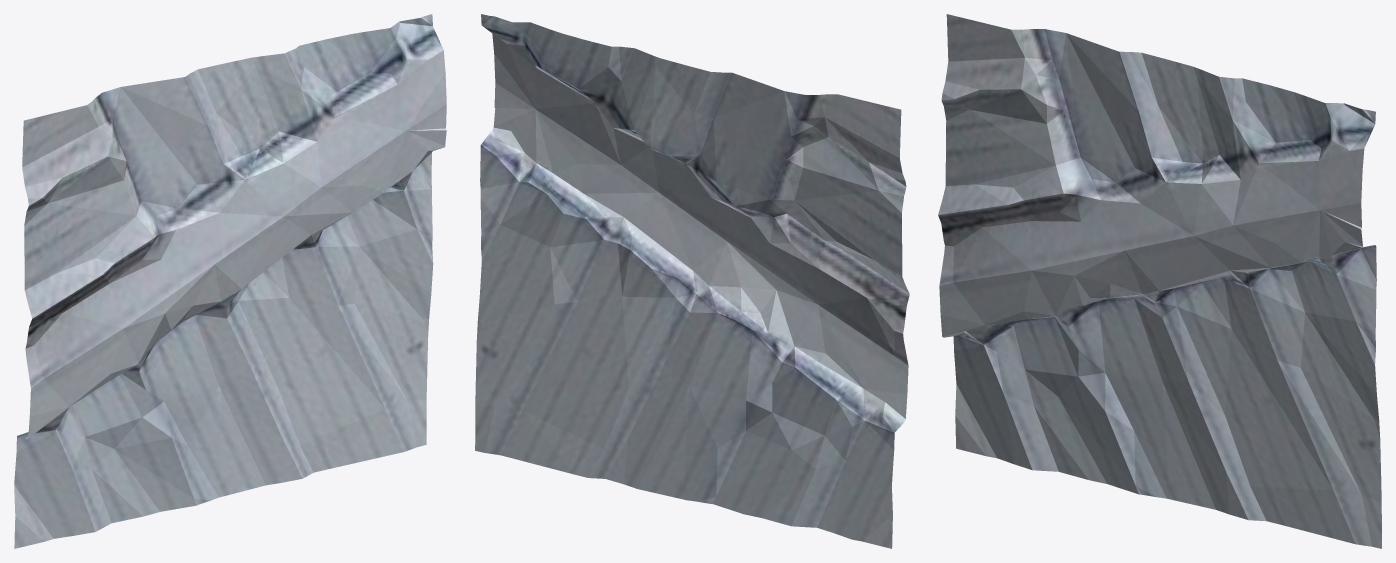
File: Tile_+001_+007_L23_002101.obj
3 views of the same model, side by side, from view 1: azimuth 30°, elevation 25°; view 2: azimuth 150°, elevation 25°; view 3: azimuth 330°, elevation 25° (orthographic). The views are drawn at different scales.
Size of the model in its own units: 1.91 by 1.91 by 0.1764.
